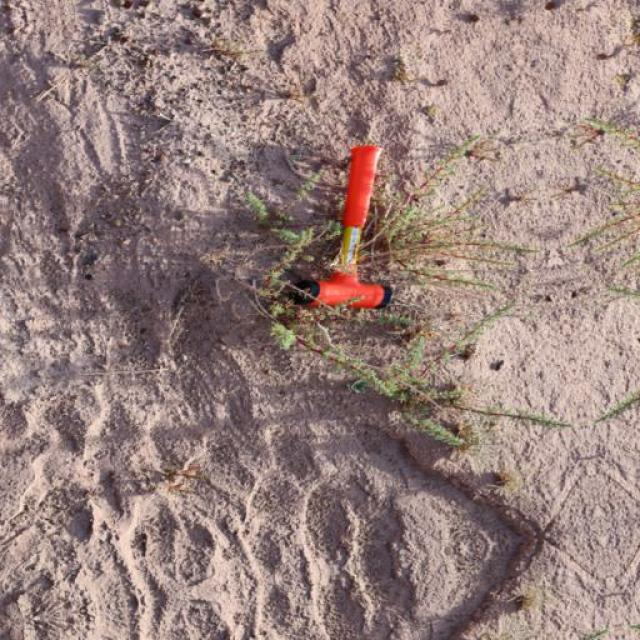mallet: (288, 142, 392, 310)
